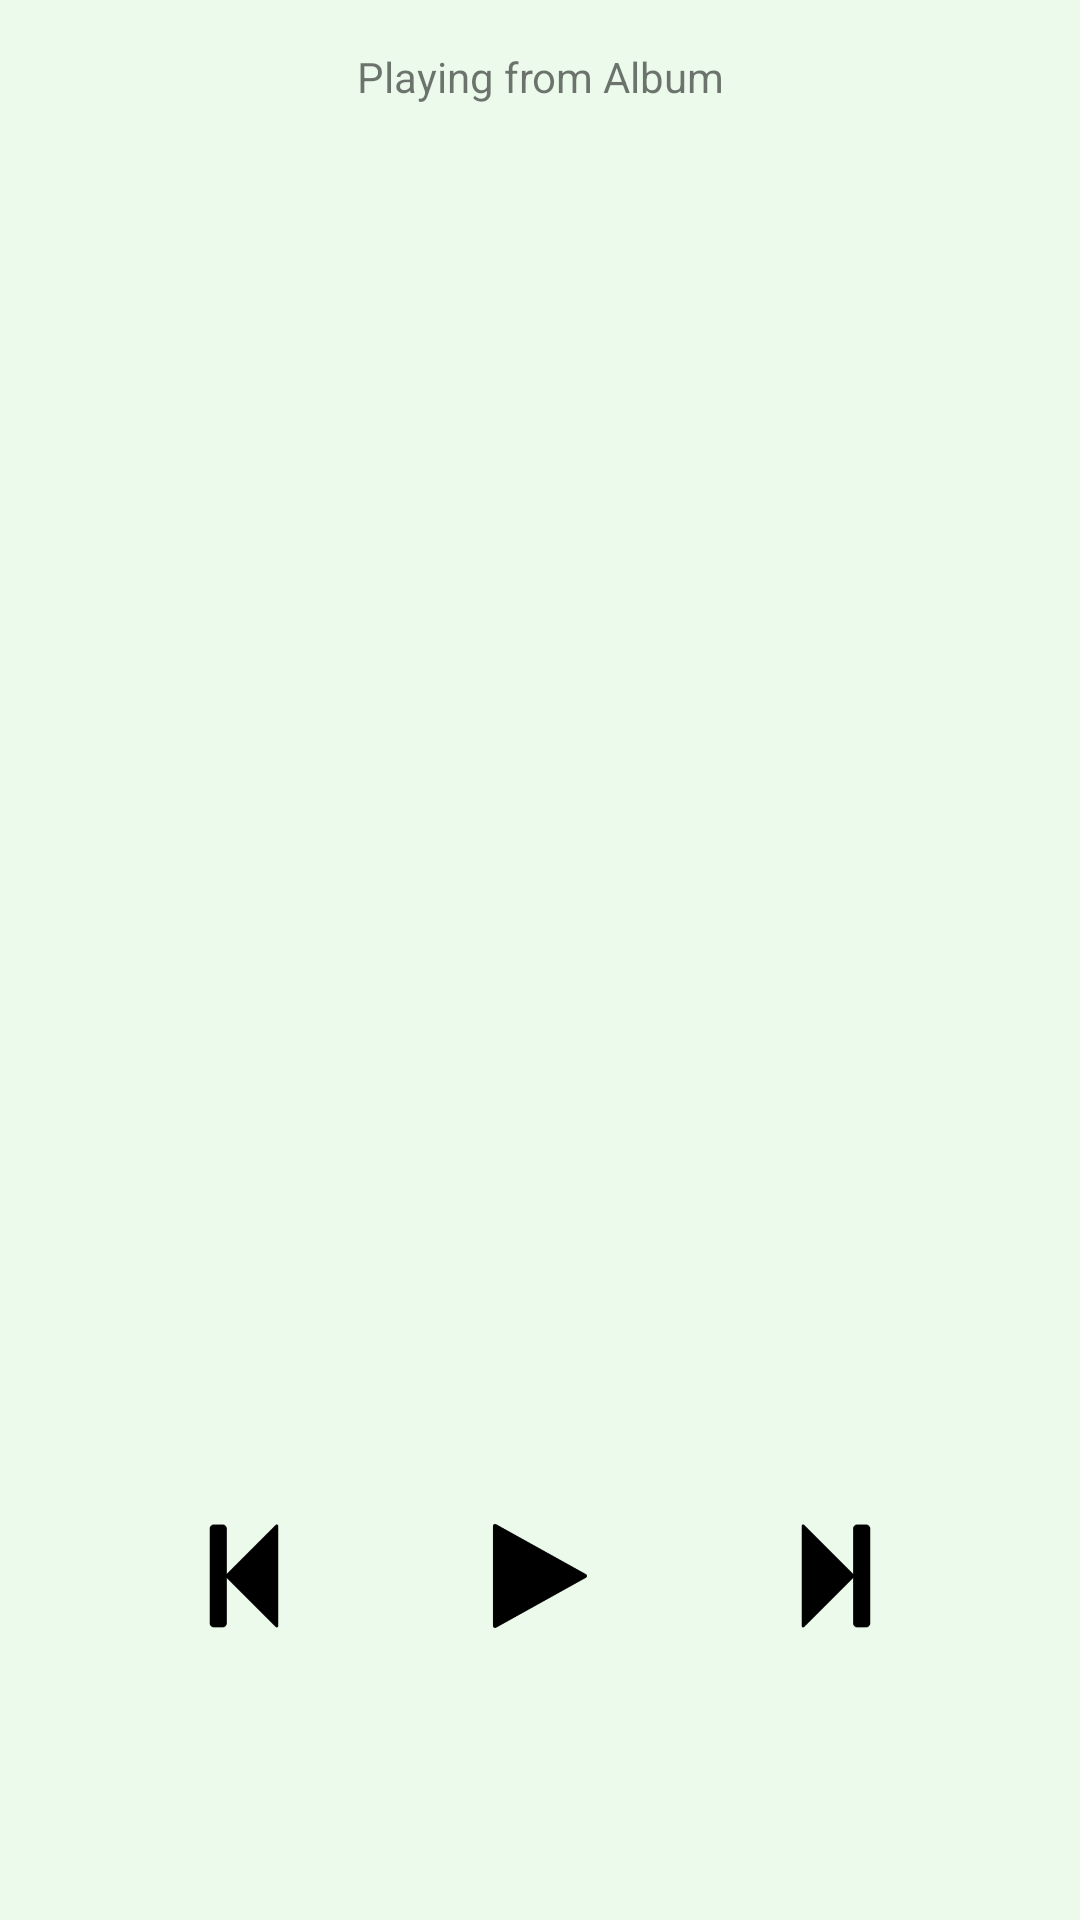

Icon bounding boxes for this 1080w x 1920h phone screenshot, format (x1, y1, x2, y2):
next song icon: (801, 1524, 871, 1628)
play and pause icon: (493, 1524, 587, 1628)
previous song icon: (209, 1524, 279, 1628)
